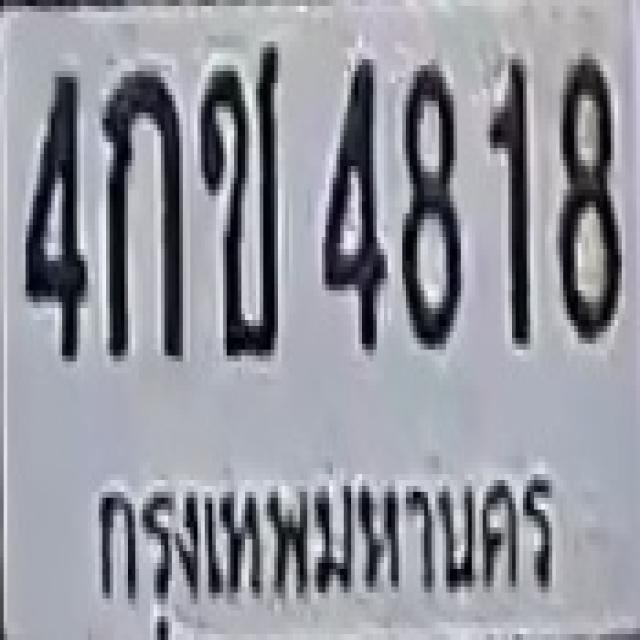1: (486, 53, 526, 344)
4: (322, 53, 384, 350), (22, 65, 84, 356)
8: (556, 53, 622, 338), (398, 56, 461, 347)
A01: (99, 65, 179, 356)
A10: (197, 42, 278, 356)
BKK: (89, 441, 558, 640)
